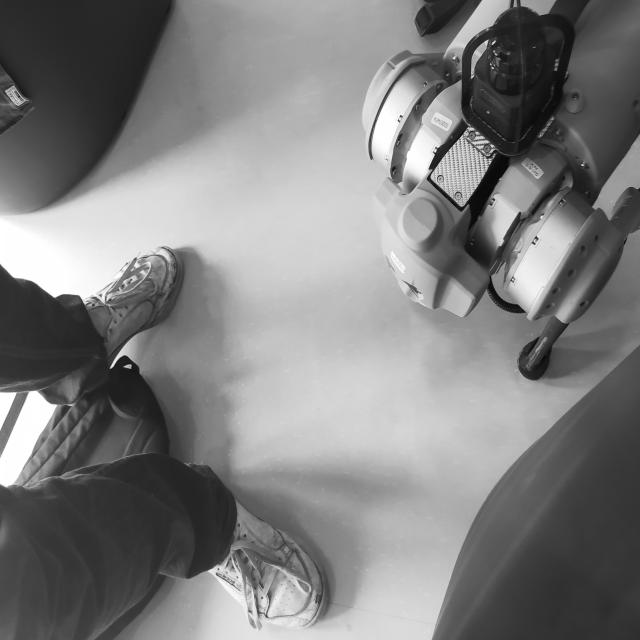unitree-go1-robot: (349, 2, 640, 392)
